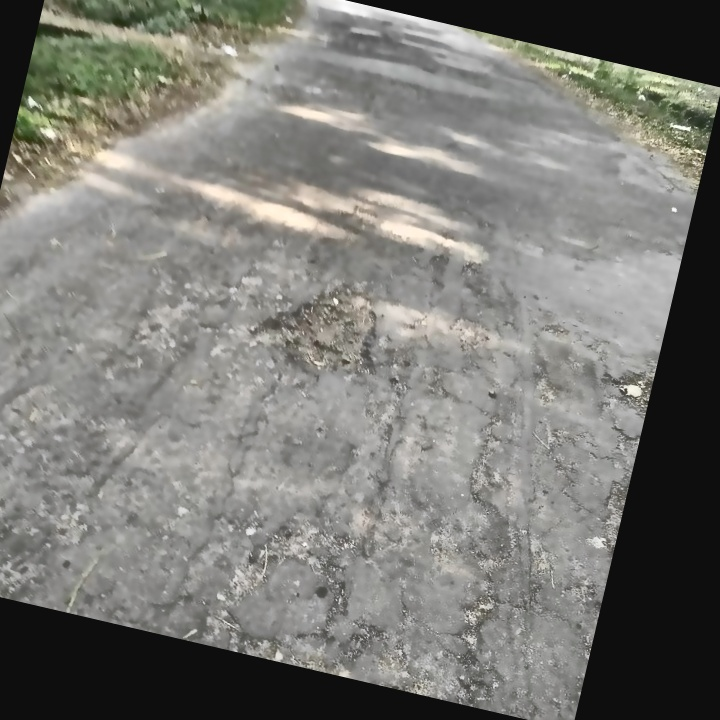pothole: (239, 258, 397, 392), (591, 360, 655, 416)
